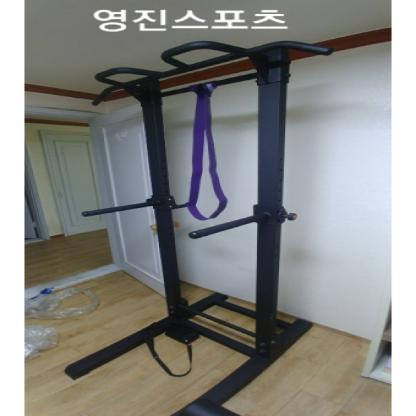chinning dipping: (66, 38, 329, 416)
